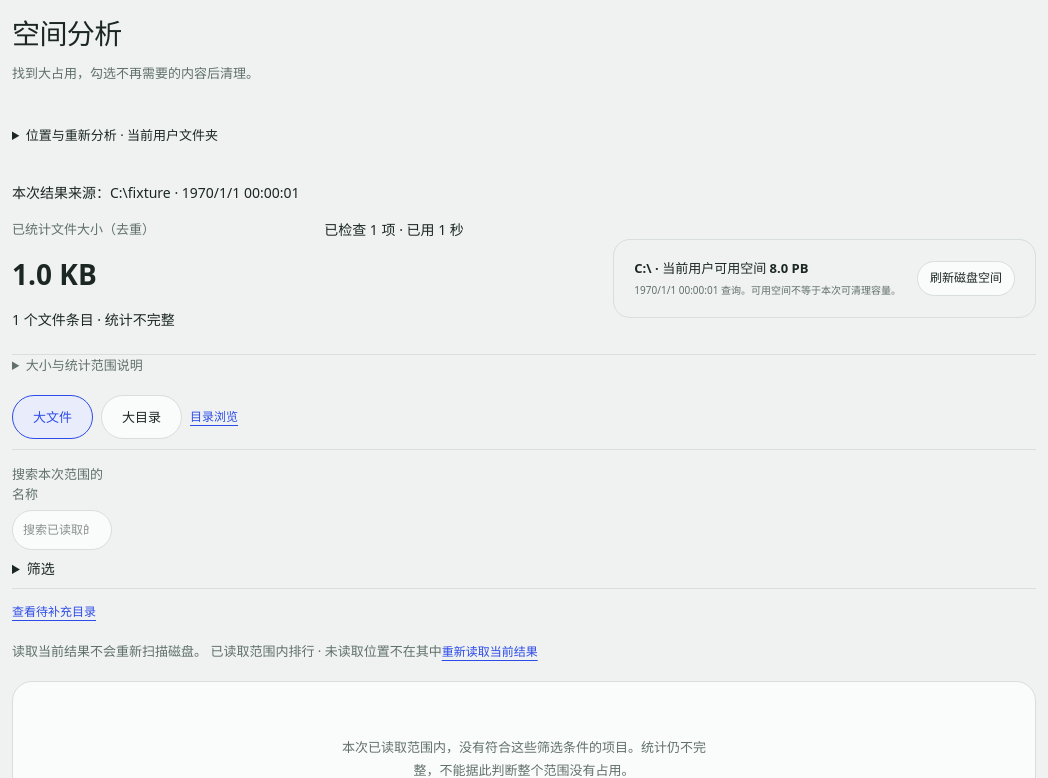
Test: embeds ranking bars in the list once and preserves partial purposes
The width and height of the screenshot is (1048, 778).
Click the button "目录浏览".
click(214, 417)  # box [190,402,238,432]
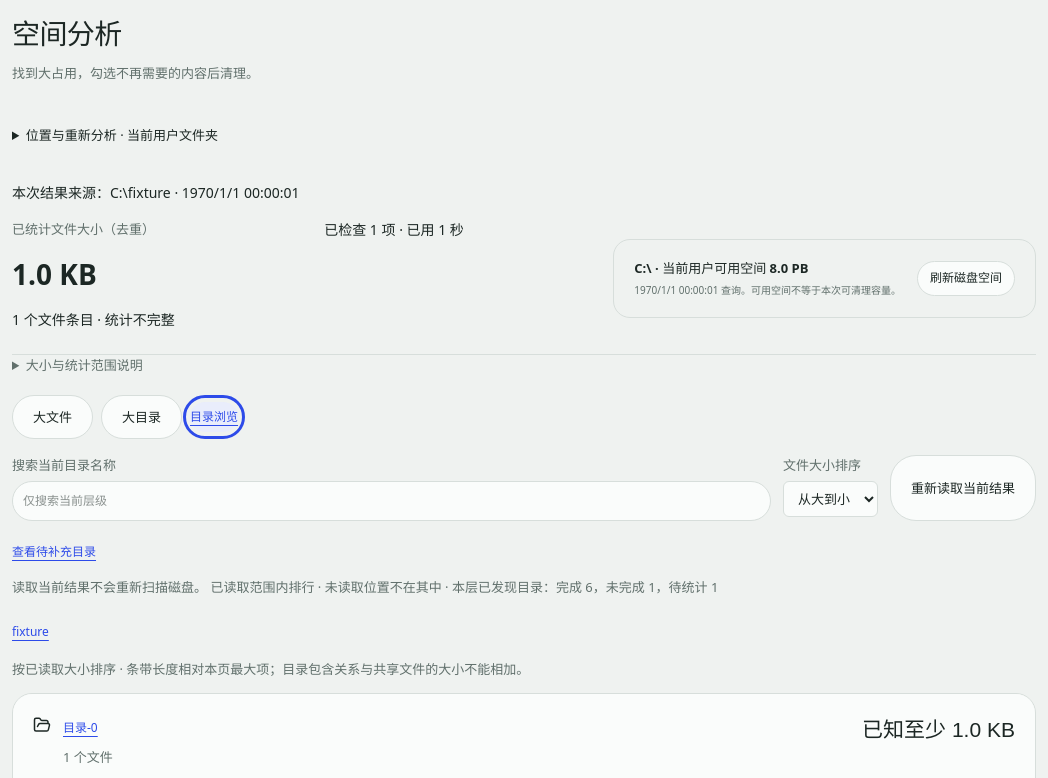
Now the text "· 本层已发现目录：完成 6，未完成 1，待统计 1" is shown, box [442,578,718,596]
